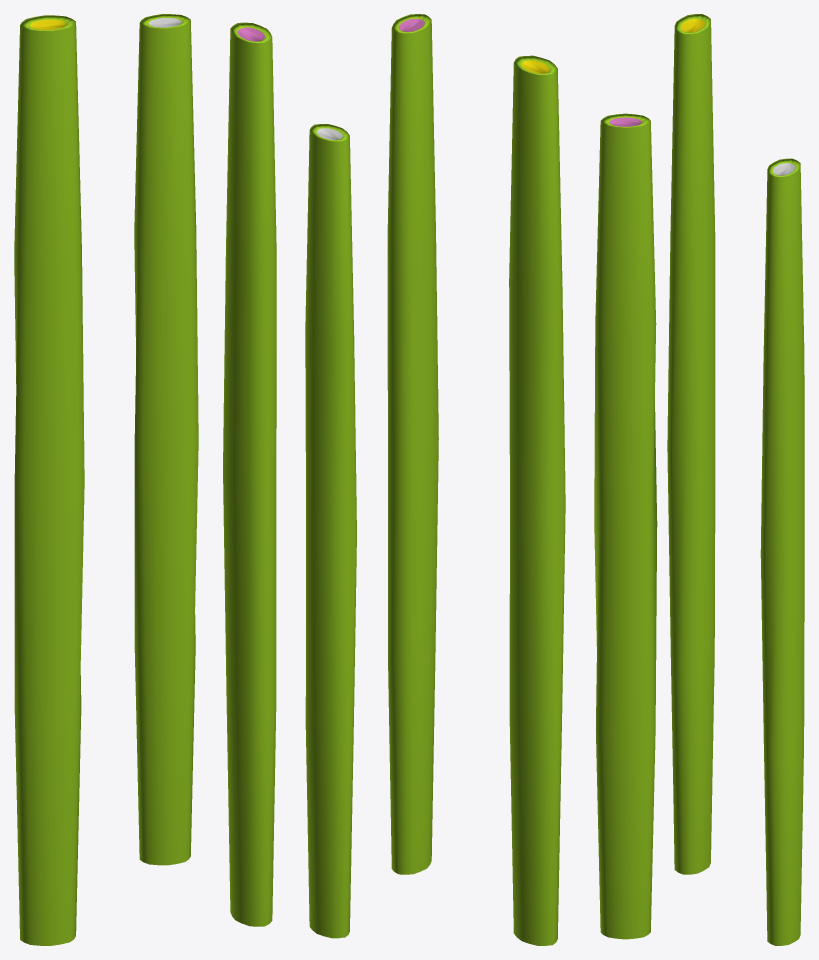
File: bambou.fbx
The picture shows the model from 3 angles, left to right: view 1: azimuth 30°, elevation 25°; view 2: azimuth 150°, elevation 25°; view 3: azimuth 270°, elevation 25°; orthographic projection. The views are drawn at different scales.
Visible parts, largest first — view 1: Cylinder.002, Cylinder.001, Cylinder; view 2: Cylinder.002, Cylinder, Cylinder.001; view 3: Cylinder, Cylinder.002, Cylinder.001.
Part boxes in pixels (x1,y1,x2,y2): Cylinder.002: (14,15,84,945); Cylinder.001: (134,14,198,865); Cylinder: (223,22,276,926); Cylinder.002: (509,55,565,945); Cylinder: (387,14,438,874); Cylinder.001: (305,124,356,938); Cylinder: (594,113,657,939); Cylinder.002: (667,14,715,874); Cylinder.001: (760,158,804,945).
Size of the model in its own units: 163 by 635 by 144.
